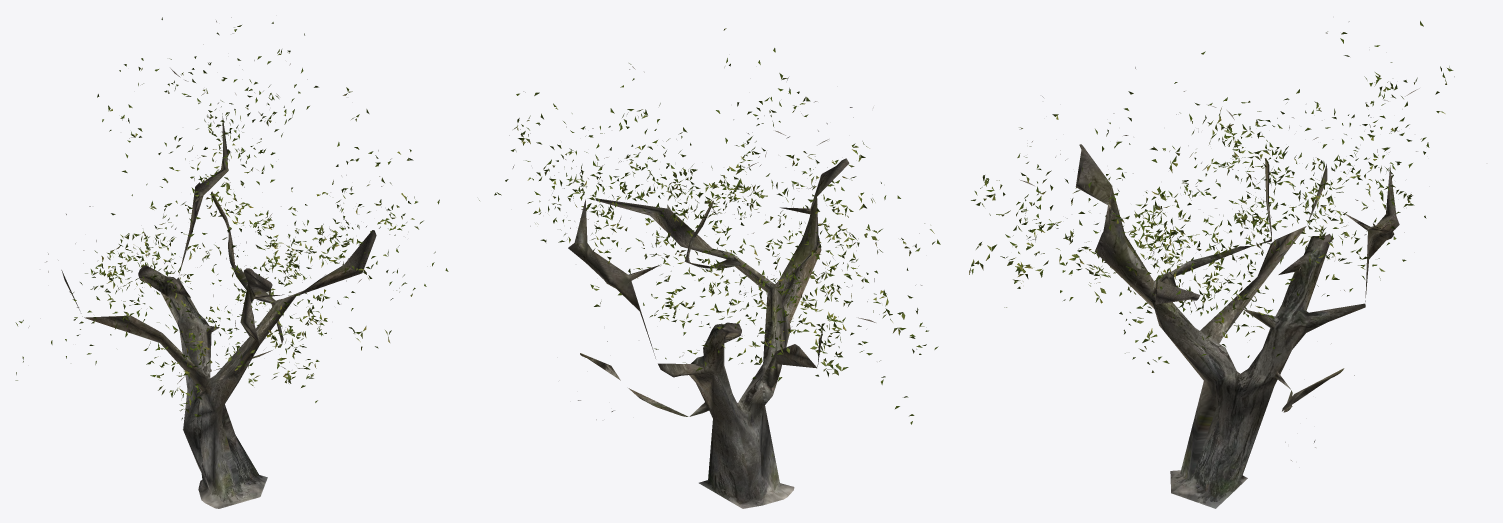
The model's file is island1_lod1.glb.
The picture shows the model from 3 angles, left to right: view 1: azimuth 30°, elevation 25°; view 2: azimuth 150°, elevation 25°; view 3: azimuth 270°, elevation 25°; orthographic projection. The views are drawn at different scales.
Parts seen in each view (by area): view 1: island_tree_01_LOD0; view 2: island_tree_01_LOD0; view 3: island_tree_01_LOD0.
Part boxes in pixels (box(x1,y1,x2,y2)): island_tree_01_LOD0: box(15, 17, 448, 508); island_tree_01_LOD0: box(479, 28, 940, 508); island_tree_01_LOD0: box(969, 21, 1454, 508).
Size of the model in its own units: 4.68 by 4.89 by 4.57.
3 materials, 3 textured.
